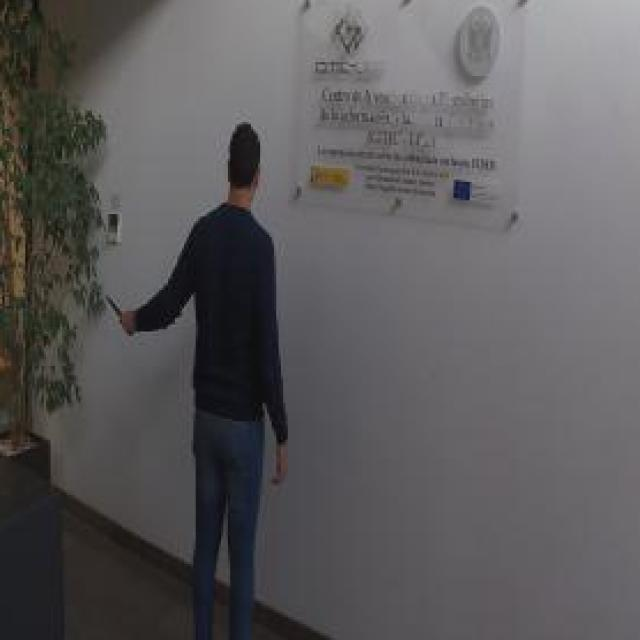knife: (104, 290, 130, 332)
